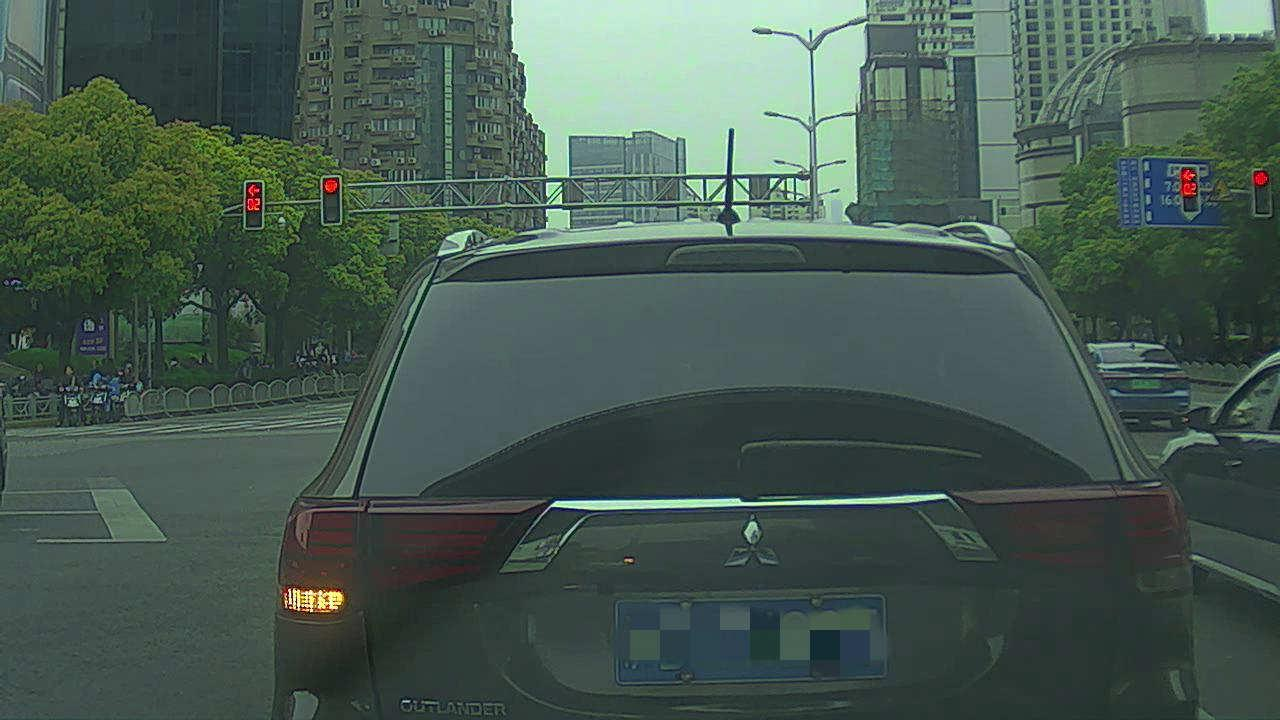traffic_light: (1249, 168, 1272, 219), (244, 180, 267, 229), (322, 176, 343, 226), (1181, 165, 1201, 213)
